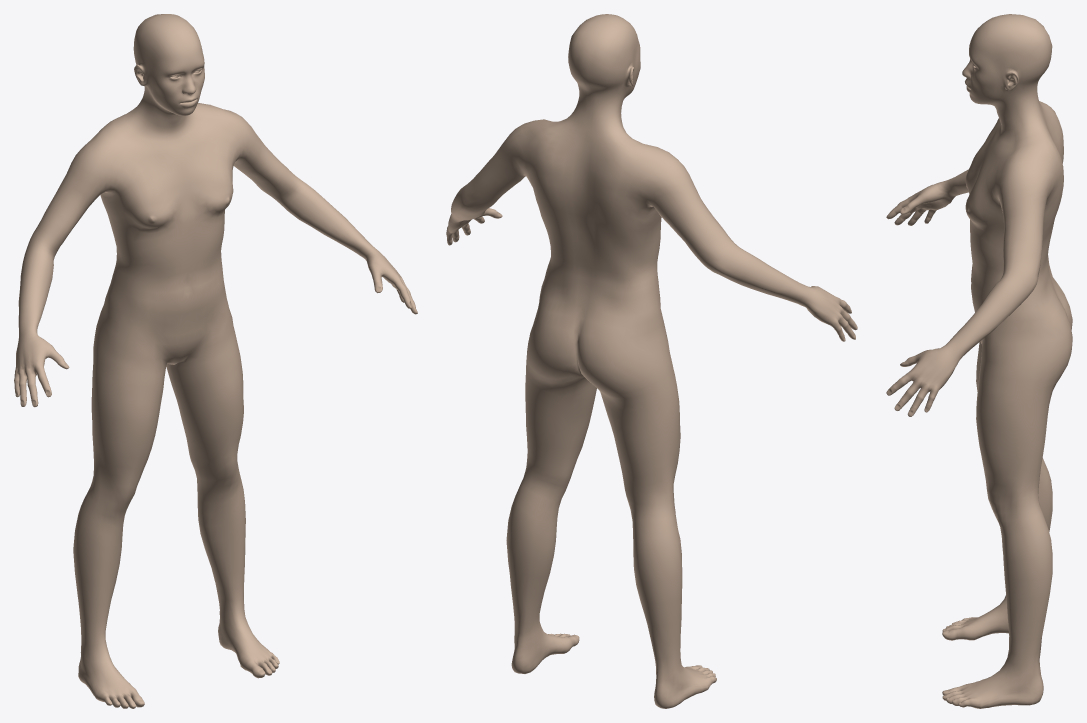
File: Avatar_Editorgeruest.glb
3 renders of one model, left to right at view 1: azimuth 30°, elevation 25°; view 2: azimuth 150°, elevation 25°; view 3: azimuth 270°, elevation 25°, orthographic.
Visible parts, largest first — view 1: Avatar_Editorgeruest; view 2: Avatar_Editorgeruest; view 3: Avatar_Editorgeruest.
Boxes of the visible parts, x1,y1,x2,y2 form: Avatar_Editorgeruest: [14, 14, 417, 708]; Avatar_Editorgeruest: [446, 14, 857, 708]; Avatar_Editorgeruest: [886, 14, 1072, 708].
Size of the model in its own units: 1.05 by 1.66 by 0.43.
